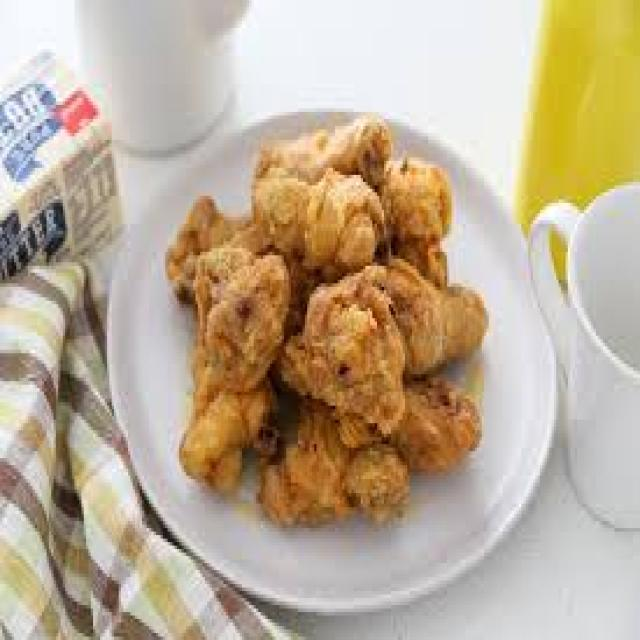Frango: (165, 126, 484, 542)
